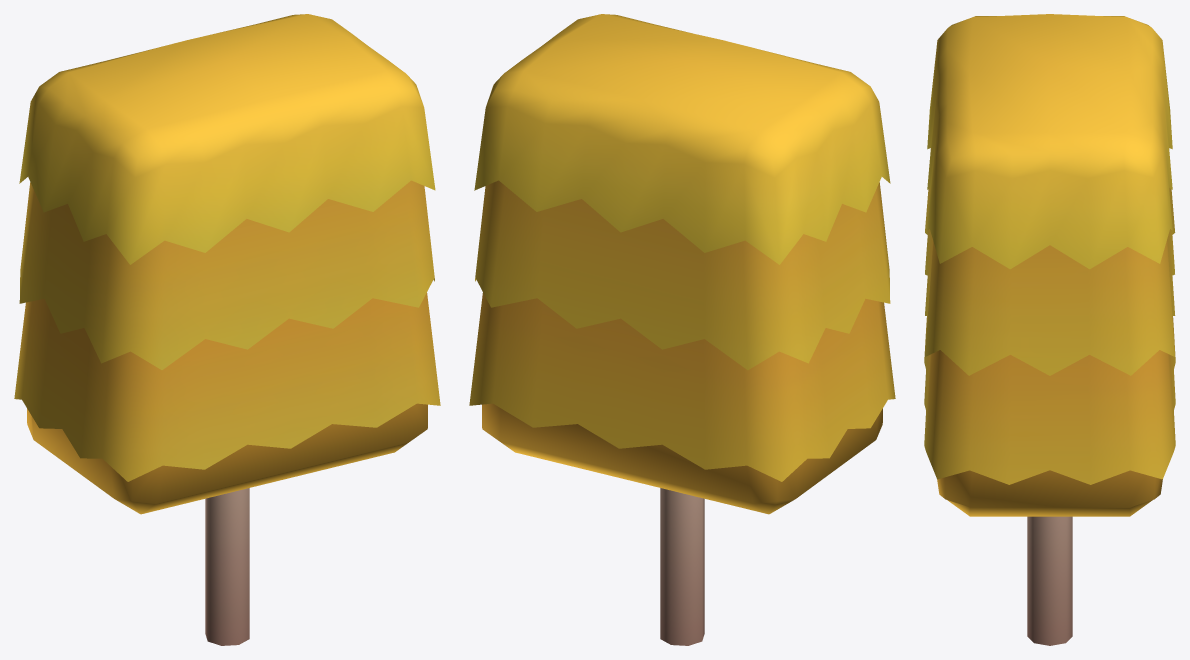
File: Asset_TreeSquareB.glb
The picture shows the model from 3 angles, left to right: view 1: azimuth 30°, elevation 25°; view 2: azimuth 150°, elevation 25°; view 3: azimuth 270°, elevation 25°; orthographic projection.
Visible parts, largest first — view 1: Mesh.008; view 2: Mesh.008; view 3: Mesh.008.
Part boxes in pixels (<box>): Mesh.008: <box>14,14,440,645</box>; Mesh.008: <box>469,14,895,645</box>; Mesh.008: <box>924,14,1175,645</box>.
Size of what is drawn, in the model's own units: 2.04 by 3.34 by 1.33.
Materials: 1 (1 with a texture image).
